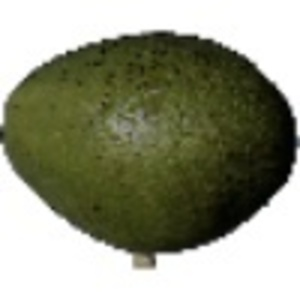abacate: (1, 26, 294, 257)
